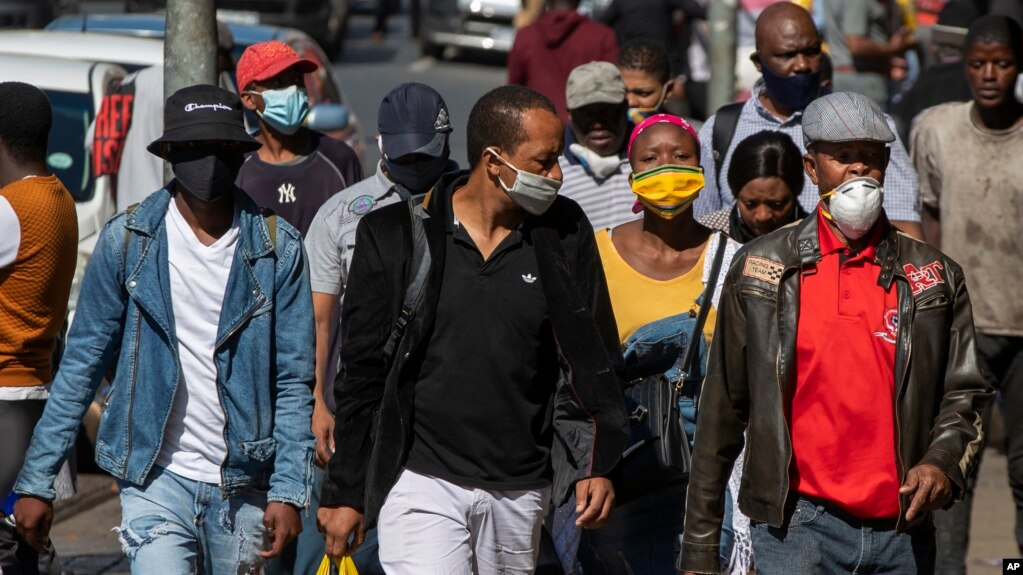with_incorrect_mask: (473, 101, 569, 216), (803, 126, 888, 232), (764, 21, 827, 108), (570, 83, 630, 172)
with_mask: (253, 51, 320, 136), (634, 133, 701, 210)
without_mask: (738, 146, 792, 232), (971, 48, 1017, 101)
